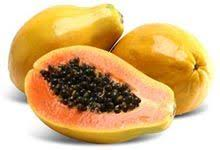papaya: (24, 46, 175, 143), (8, 5, 124, 91), (111, 23, 211, 116)
